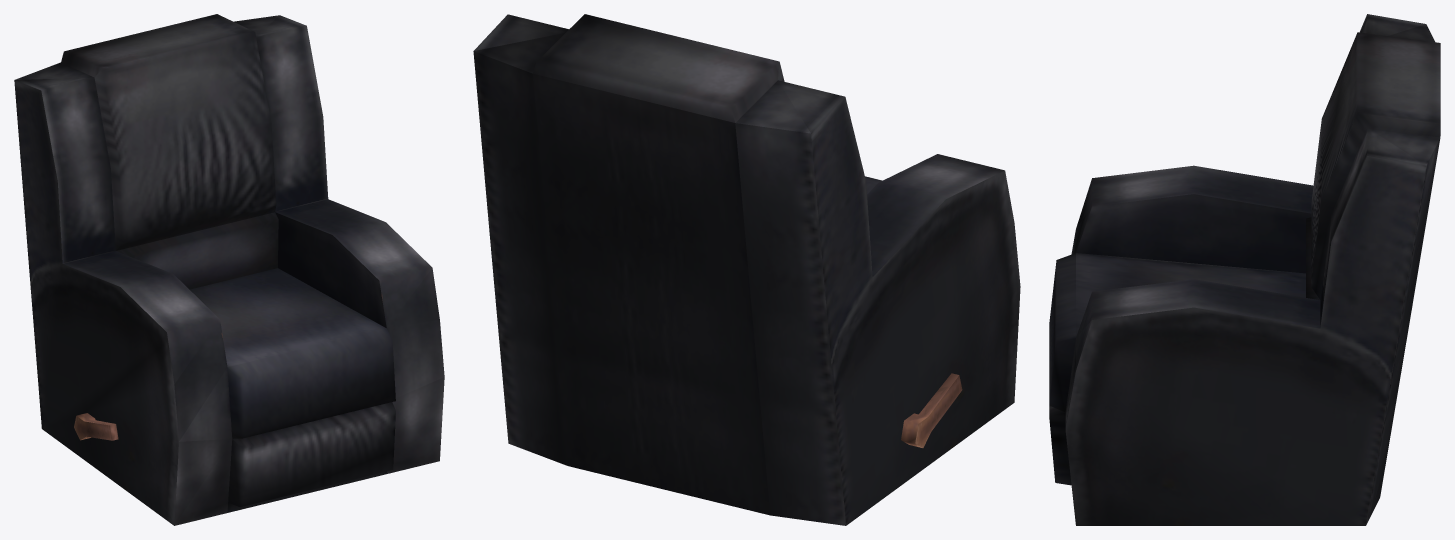
The model's file is Furniture_Chair2.fbx.
The picture shows the model from 3 angles, left to right: view 1: azimuth 30°, elevation 25°; view 2: azimuth 150°, elevation 25°; view 3: azimuth 270°, elevation 25°; orthographic projection. The views are drawn at different scales.
Parts seen in each view (by area): view 1: Empty_Mesh; view 2: Empty_Mesh; view 3: Empty_Mesh.
Boxes of the visible parts, bbox=[...] form: Empty_Mesh: bbox=[14, 14, 444, 525]; Empty_Mesh: bbox=[473, 14, 1020, 525]; Empty_Mesh: bbox=[1049, 14, 1440, 525].
Size of the model in its own units: 83093 by 100058 by 92998.
